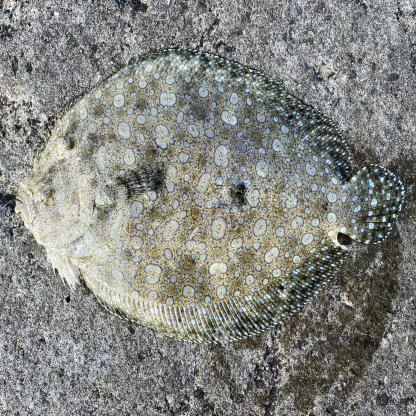flounder: (19, 43, 404, 345)
